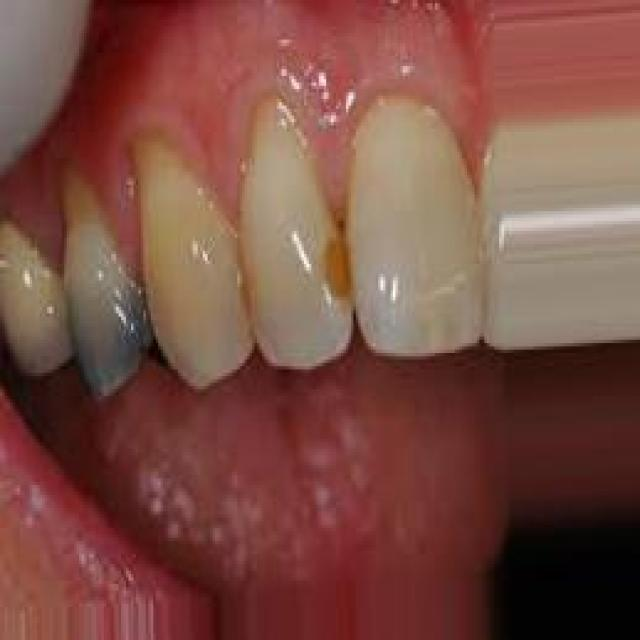caries: (303, 213, 353, 310)
